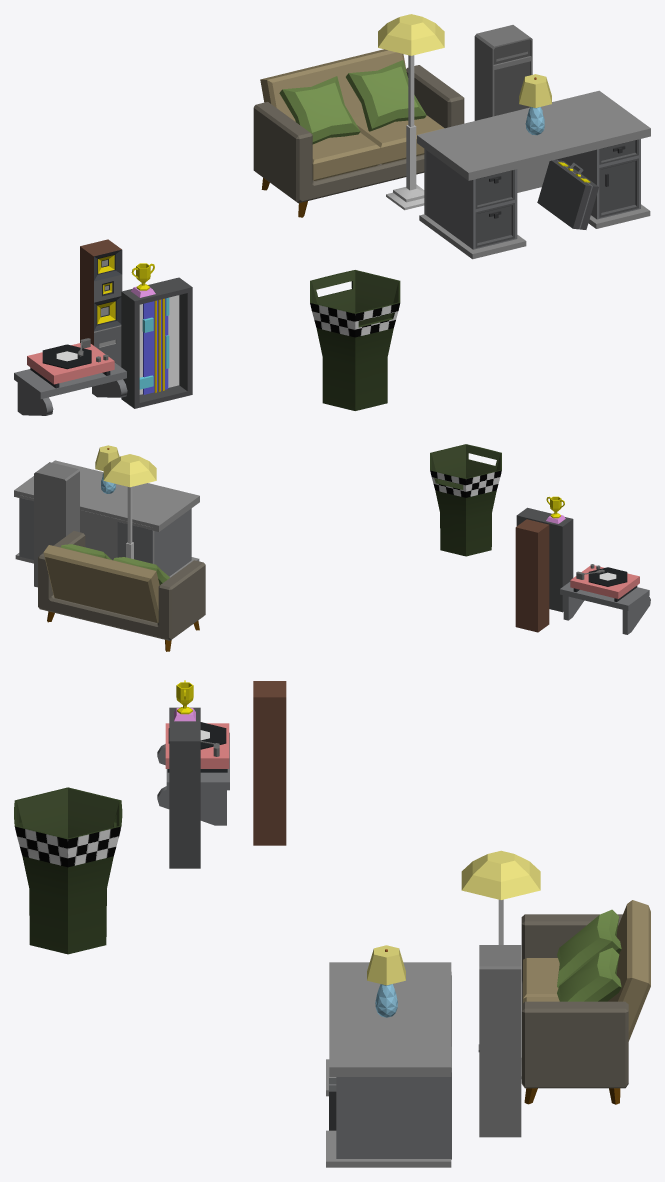
3 renders of one model, top to bottom at view 1: azimuth 30°, elevation 25°; view 2: azimuth 150°, elevation 25°; view 3: azimuth 270°, elevation 25°, orthographic. The views are drawn at different scales.
Visible parts, largest first — view 1: Table1, Sofa, Finish_Basket, Cup_Stand, cabinet, Speaker, Lamp1, briefcase, Stand, Recorder1, Lamp; view 2: Sofa, Table1, Finish_Basket, Speaker, cabinet, Cup_Stand, Stand, Lamp1, Recorder1, Lamp, Cup; view 3: Table1, Sofa, Finish_Basket, cabinet, Speaker, Cup_Stand, Lamp1, Stand, Lamp, Recorder1.
Boxes of the visible parts, left/top/right/bottom form: Table1: left=417, top=90, right=650, bottom=259; Sofa: left=253, top=49, right=464, bottom=217; Finish_Basket: left=310, top=270, right=400, bottom=410; Cup_Stand: left=121, top=277, right=192, bottom=408; cabinet: left=474, top=25, right=532, bottom=120; Speaker: left=80, top=239, right=122, bottom=366; Lamp1: left=378, top=14, right=444, bottom=210; briefcase: left=537, top=160, right=598, bottom=229; Stand: left=14, top=363, right=127, bottom=415; Recorder1: left=27, top=338, right=114, bottom=388; Lamp: left=519, top=74, right=551, bottom=135; Sofa: left=38, top=531, right=205, bottom=651; Table1: left=14, top=460, right=199, bottom=577; Finish_Basket: left=430, top=444, right=501, bottom=556; Speaker: left=515, top=519, right=549, bottom=632; cabinet: left=34, top=462, right=79, bottom=587; Cup_Stand: left=516, top=507, right=573, bottom=612; Stand: left=560, top=582, right=650, bottom=634; Lamp1: left=103, top=454, right=156, bottom=558; Recorder1: left=570, top=564, right=639, bottom=601; Lamp: left=95, top=445, right=119, bottom=493; Cup: left=546, top=496, right=565, bottom=523; Table1: left=326, top=962, right=451, bottom=1167; Sofa: left=521, top=900, right=650, bottom=1104; Finish_Basket: left=14, top=787, right=122, bottom=954; cabinet: left=478, top=945, right=521, bottom=1137; Speaker: left=253, top=681, right=286, bottom=845; Cup_Stand: left=169, top=707, right=200, bottom=868; Lamp1: left=461, top=850, right=540, bottom=1078; Stand: left=157, top=732, right=229, bottom=825; Lamp: left=367, top=945, right=405, bottom=1017; Recorder1: left=165, top=722, right=229, bottom=772.
Size of the model in its own units: 22.09 by 5.74 by 15.19.
38 materials, 1 textured.
